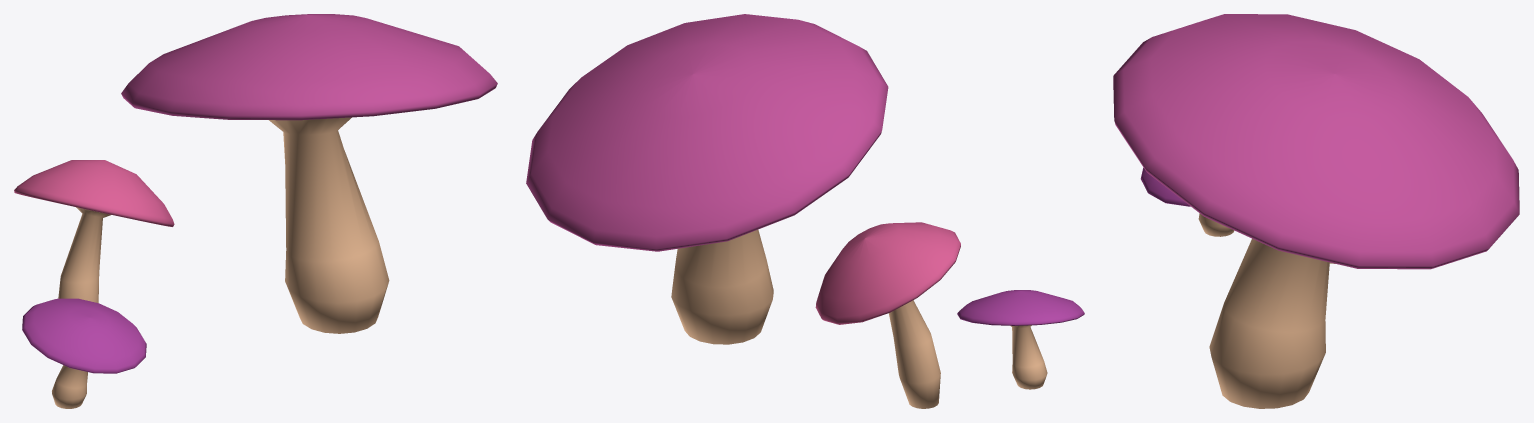
The model's file is MushroomSet3.fbx.
The picture shows the model from 3 angles, left to right: view 1: azimuth 30°, elevation 25°; view 2: azimuth 150°, elevation 25°; view 3: azimuth 270°, elevation 25°; orthographic projection. The views are drawn at different scales.
Parts seen in each view (by area): view 1: set3; view 2: set3; view 3: set3.
Part boxes in pixels (x1,y1,x2,y2): set3: [14, 14, 497, 408]; set3: [526, 14, 1084, 408]; set3: [1113, 14, 1519, 408].
Bounding box in the file's own units: 237 × 134 × 152.
